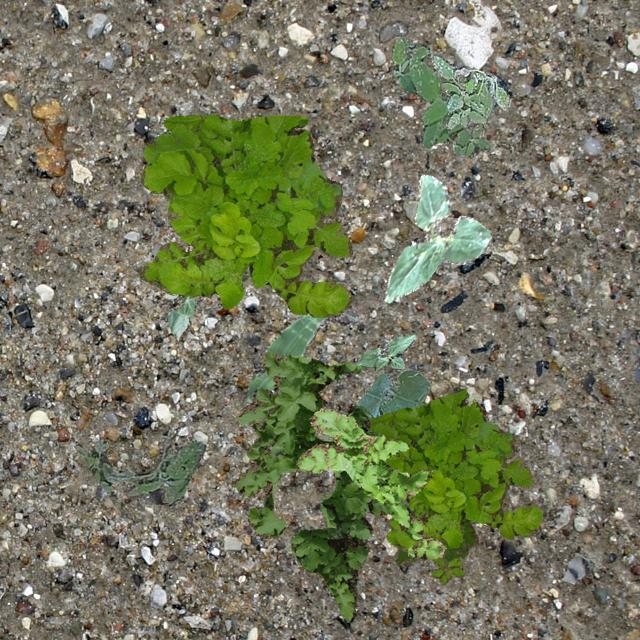crop: (382, 174, 492, 302), (245, 308, 358, 402), (354, 368, 429, 419), (354, 334, 416, 369), (166, 292, 194, 340)
weed: (138, 114, 352, 316), (234, 352, 390, 622), (366, 388, 542, 550), (296, 408, 444, 558), (391, 36, 488, 156), (72, 428, 204, 508), (431, 54, 508, 128), (392, 512, 478, 566), (430, 556, 462, 584)
